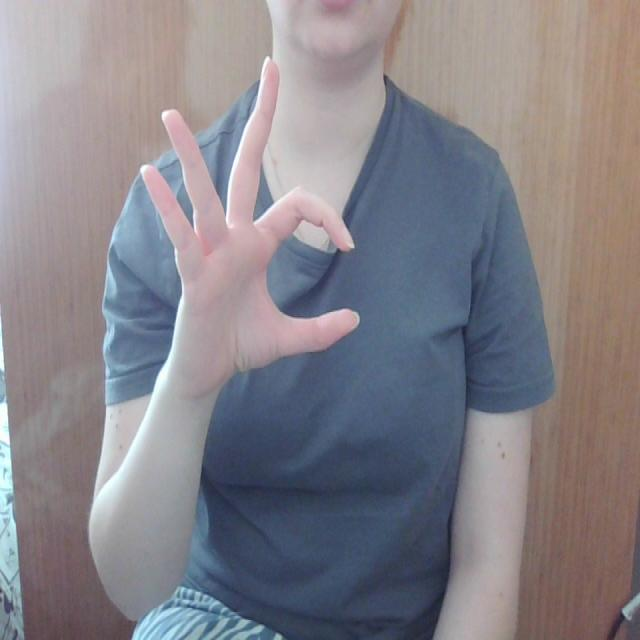Tuvalet: (132, 57, 362, 379)
